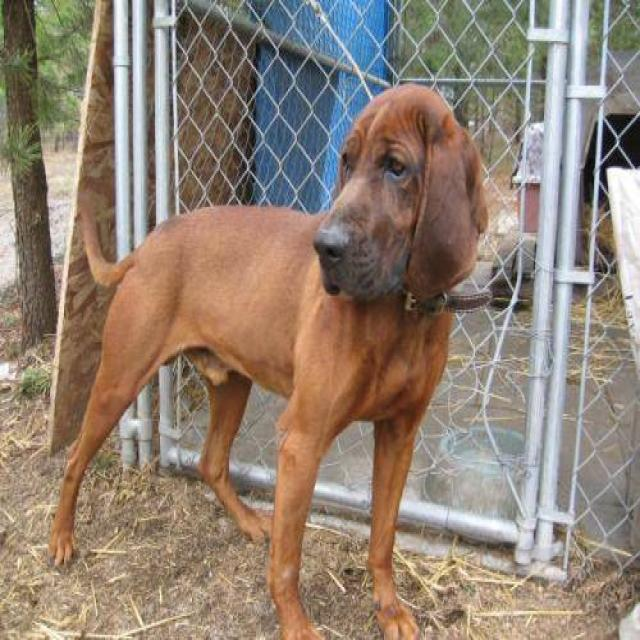dog: (46, 81, 493, 638)
